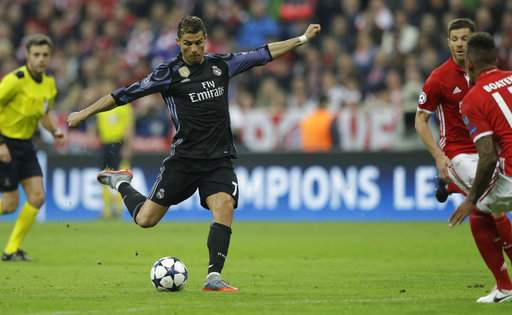referee: (1, 35, 65, 266)
soccer player: (65, 15, 323, 294), (413, 17, 512, 306), (442, 30, 512, 230)
soccerball: (149, 255, 190, 295)
